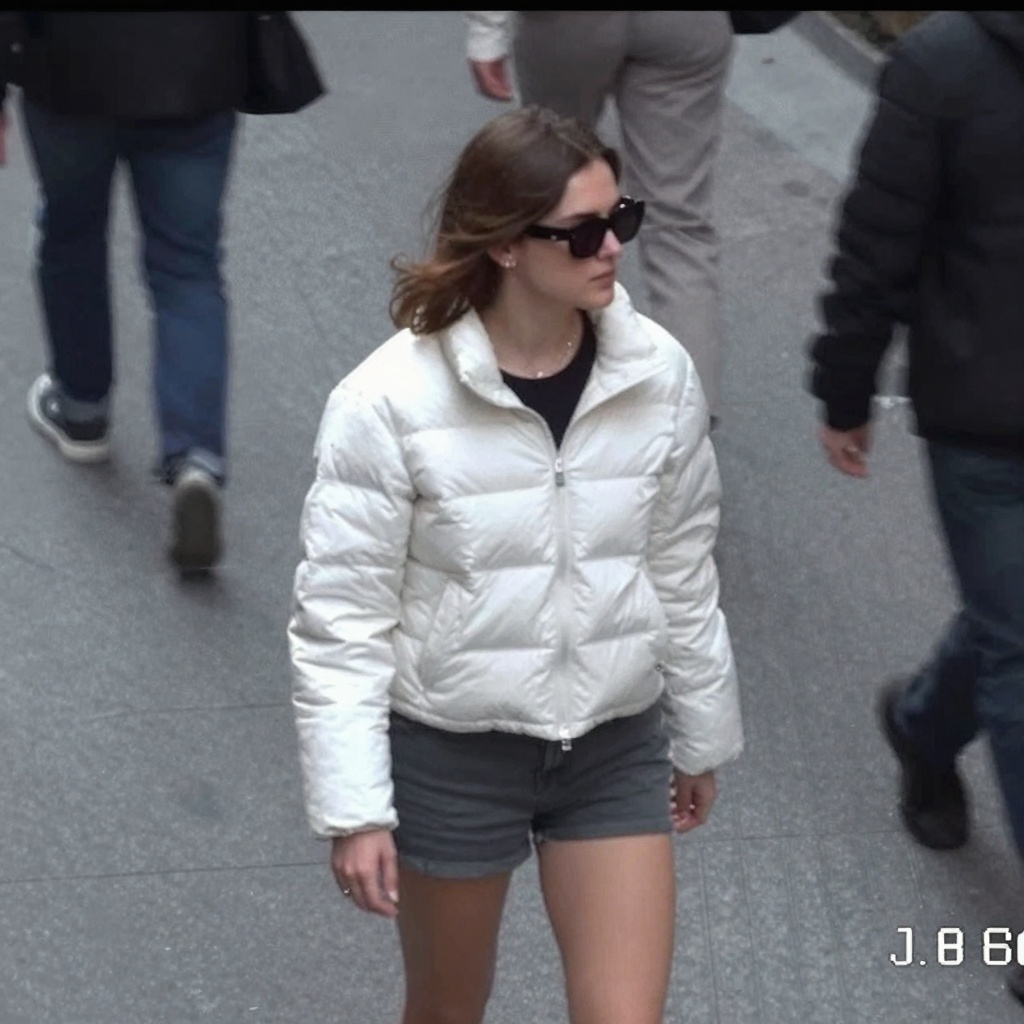Normal activity: (288, 103, 743, 1022), (807, 13, 1023, 867), (1, 4, 327, 498), (462, 12, 737, 435)
